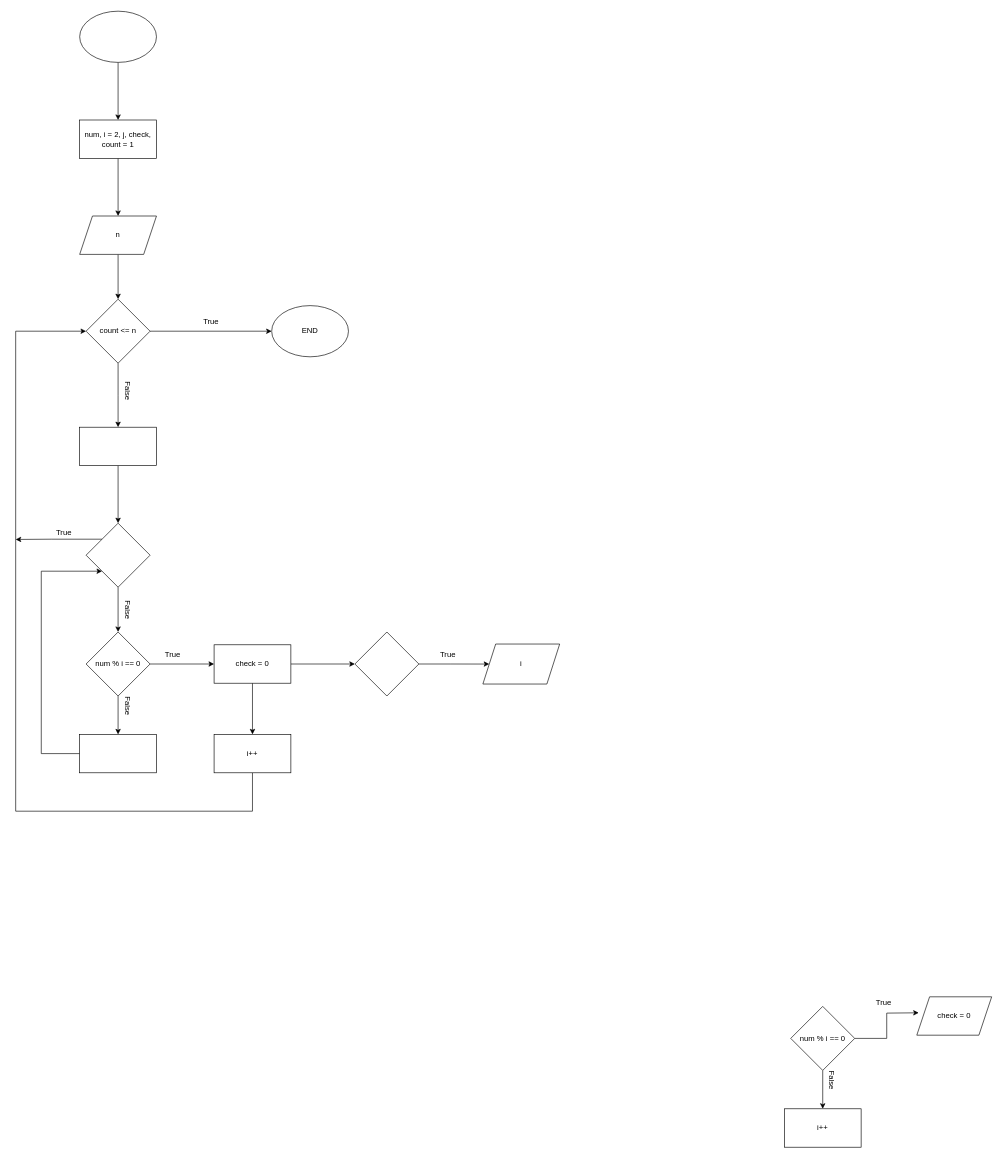
Image size: 1003x1158. Some labels were removed from this diagram. The box of each missing label's shape, as (x1, y1, x2, y2) in pixels:
check == 1: (354, 631, 419, 696)
j < i: (85, 523, 150, 587)
j = 2 check = 1: (79, 427, 156, 466)
j++: (79, 734, 156, 773)
START: (79, 11, 156, 62)
